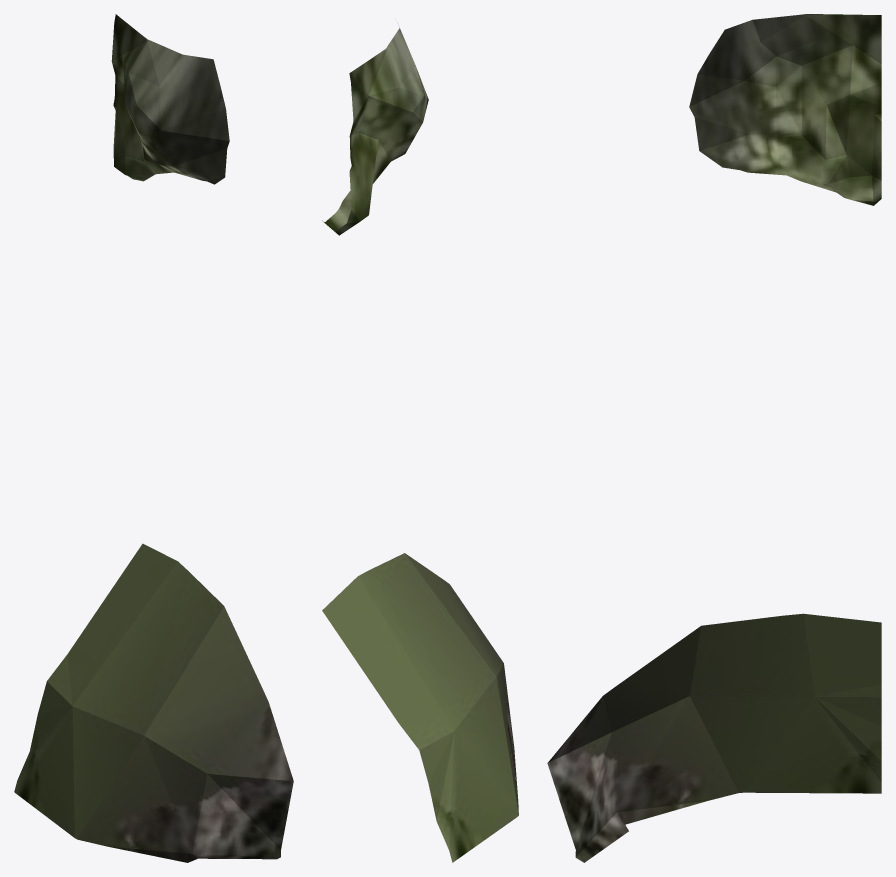
The picture shows the model from 3 angles, left to right: view 1: azimuth 30°, elevation 25°; view 2: azimuth 150°, elevation 25°; view 3: azimuth 270°, elevation 25°; orthographic projection. The views are drawn at different scales.
Bounding box in the file's own units: 0.5331 × 2.95 × 1.07.
1 material, 1 textured.
